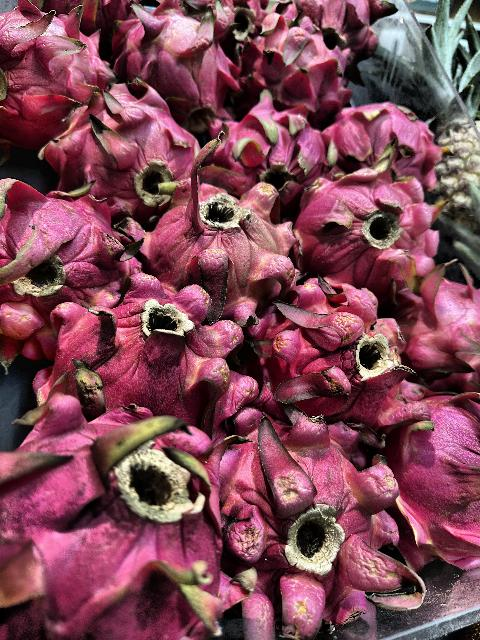buah-naga-belum-matang: (123, 163, 300, 313), (102, 4, 241, 130)
buah-naga-matang: (1, 398, 234, 640), (3, 410, 223, 640), (205, 412, 425, 624), (38, 296, 248, 454), (260, 289, 441, 431), (2, 161, 148, 331), (23, 78, 204, 214), (291, 164, 439, 292), (225, 4, 361, 118), (392, 398, 480, 568), (0, 0, 116, 120), (195, 109, 334, 200), (316, 88, 444, 186), (396, 262, 480, 408)
